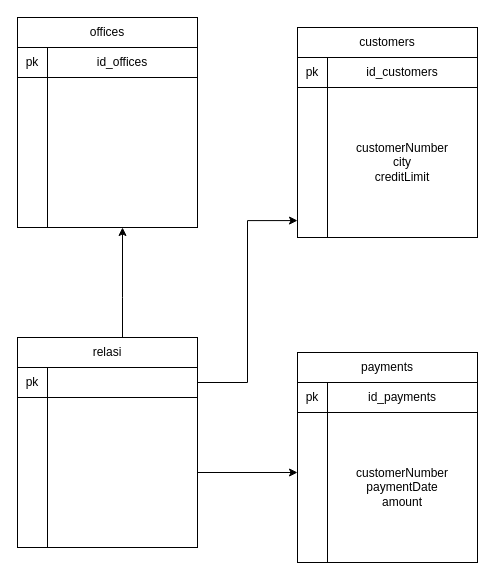
This 495x580 diagram has some shape labels left out. The centre of each missing label's shape, as x and y in pixels:
"id_relasi" goes at (122,382).
"officeCode city territory" goes at (122,152).
"officeCode creditLimit amount" goes at (122,472).
